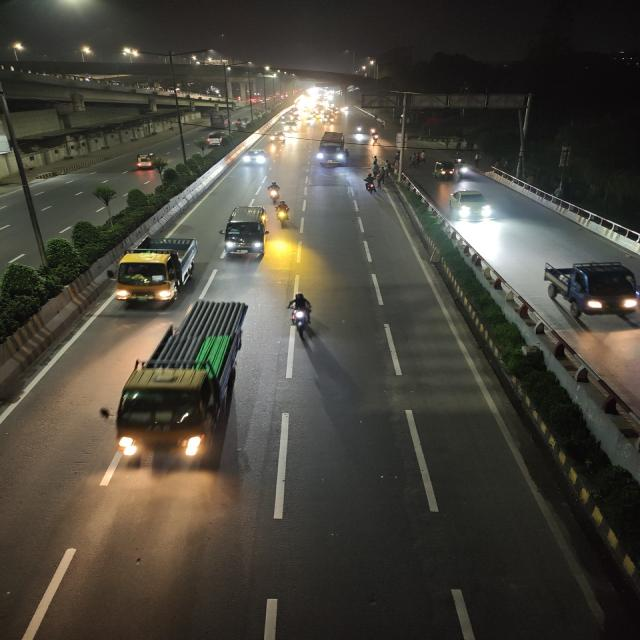bus: (312, 130, 352, 168)
car: (219, 202, 269, 260), (449, 186, 501, 228), (128, 150, 168, 173), (240, 148, 271, 168), (201, 128, 229, 148), (266, 130, 290, 147), (282, 122, 299, 134)
cng: (431, 157, 457, 183)
motorcycle: (283, 290, 317, 337), (274, 200, 292, 232), (360, 169, 381, 196), (266, 176, 284, 206), (456, 158, 476, 182), (370, 132, 382, 144)
pedestrian: (370, 160, 380, 175), (408, 153, 416, 169), (415, 150, 422, 168), (473, 153, 481, 167), (421, 149, 428, 163), (380, 167, 386, 183)
pickup_van: (105, 294, 251, 466), (535, 253, 640, 333), (104, 228, 204, 308)
